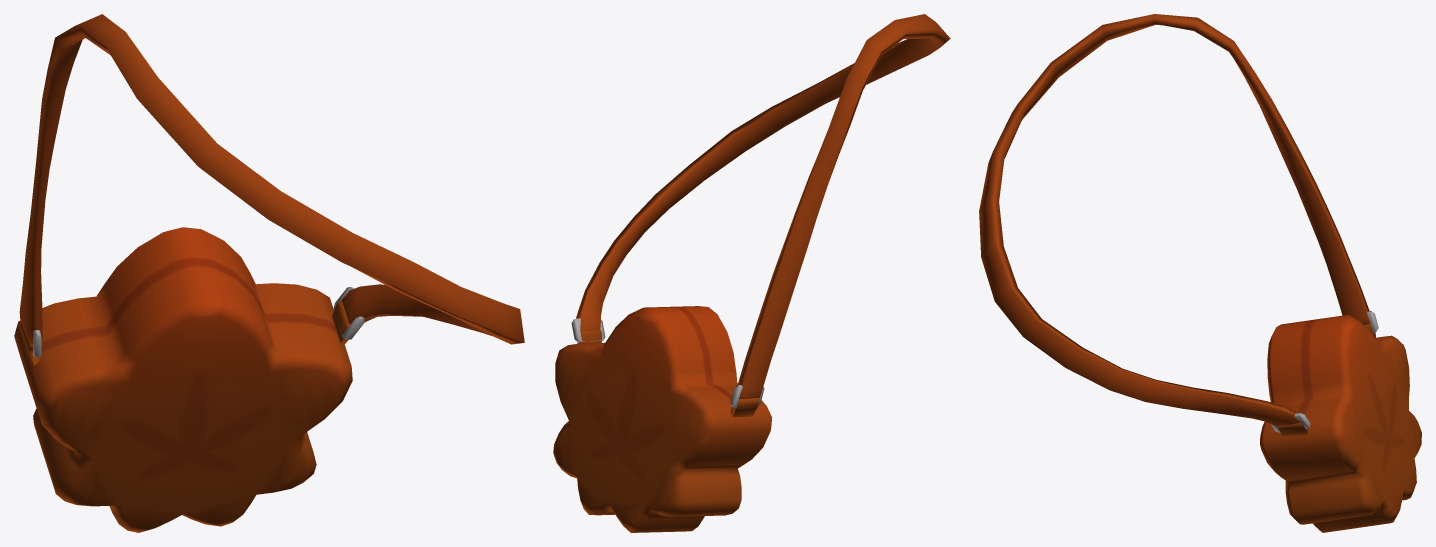
File: BagShoulderMaple0.glb
The picture shows the model from 3 angles, left to right: view 1: azimuth 30°, elevation 25°; view 2: azimuth 150°, elevation 25°; view 3: azimuth 270°, elevation 25°; orthographic projection. The views are drawn at different scales.
Visible parts, largest first — view 1: Belt__mBag; view 2: Belt__mBag; view 3: Belt__mBag.
Part boxes in pixels (left/top/right/bottom): Belt__mBag: left=14, top=14, right=524, bottom=532; Belt__mBag: left=553, top=14, right=950, bottom=532; Belt__mBag: left=979, top=14, right=1421, bottom=532.
Bounding box in the file's own units: 2.76 × 4.36 × 3.94.
Materials: 1 (1 with a texture image).
